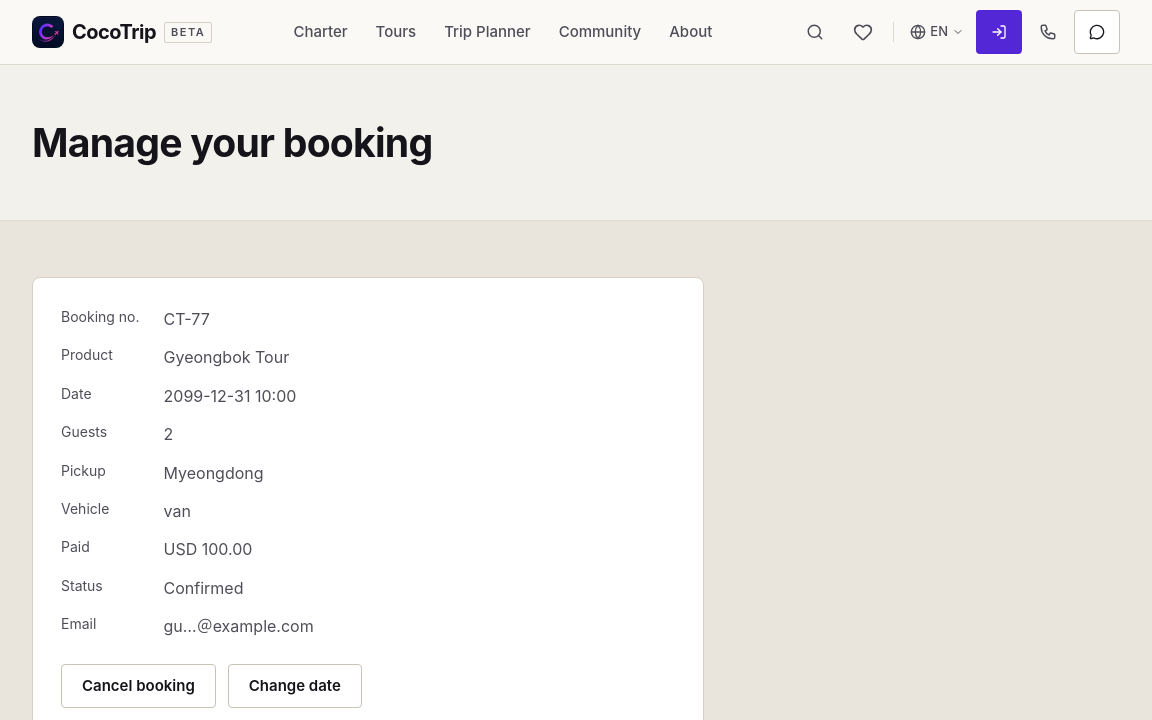
Scenario: /booking/manage — date change (②b) › closing the date-change dialog returns focus to the "Change date" button
This screenshot has width=1152, height=720.
Click the button "Change date" at x=295, y=686, box [228,664,362,708]
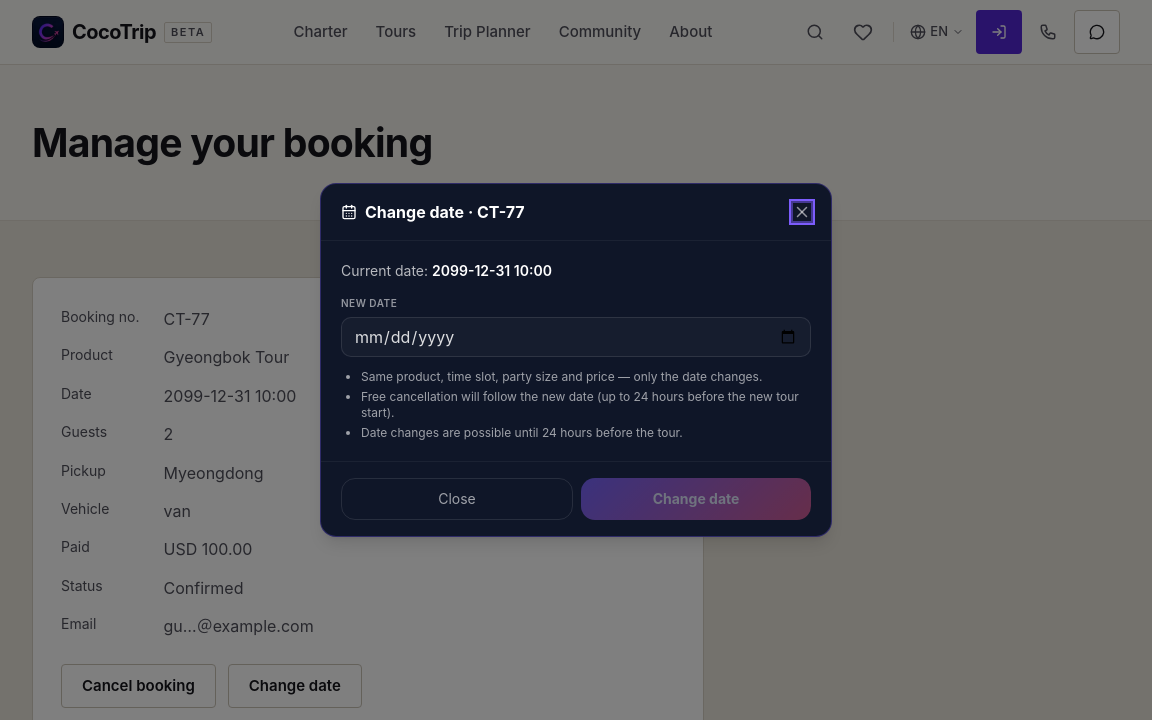
Press Escape in the button named "Close", box [793,203,811,221]
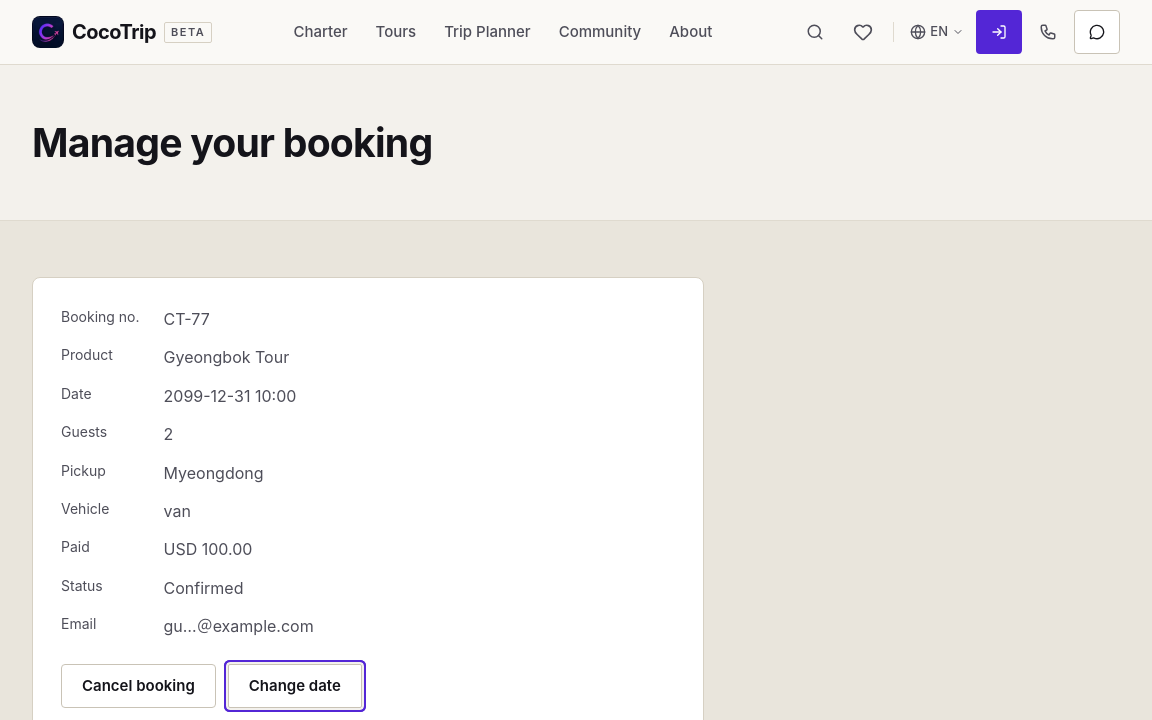
Check: the dialog is gone
